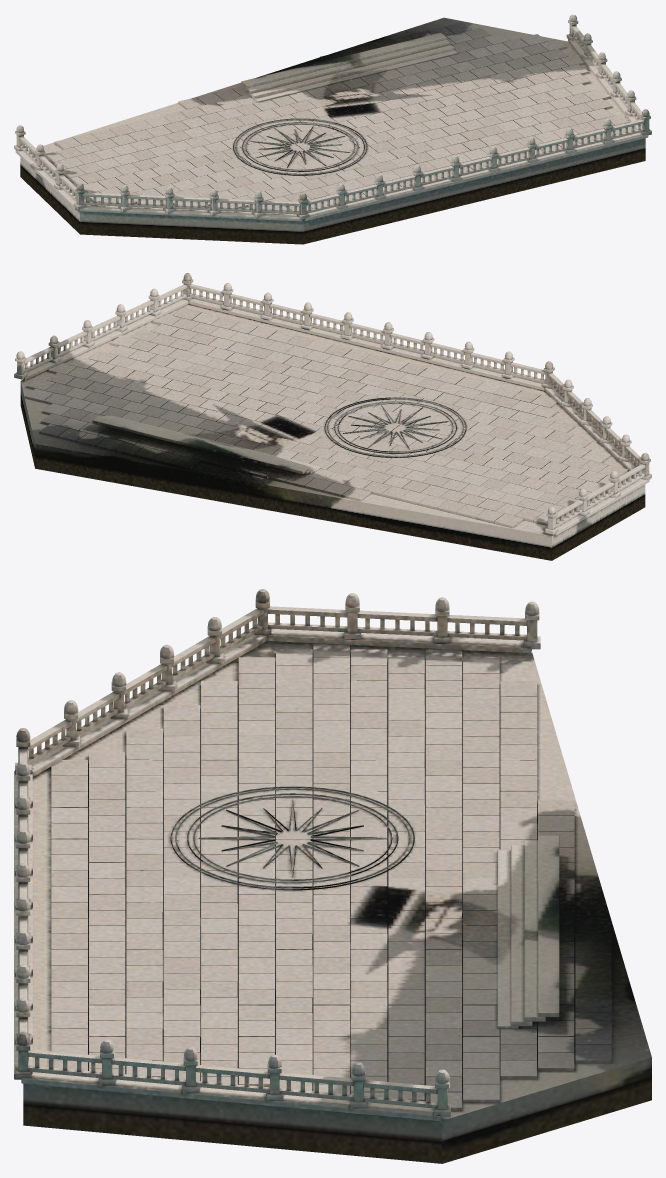
Rendered from terrace.glb.
3 views of the same model, one above another, from view 1: azimuth 30°, elevation 25°; view 2: azimuth 150°, elevation 25°; view 3: azimuth 270°, elevation 25° (orthographic). The views are drawn at different scales.
Visible parts, largest first — view 1: Reference coastal stone terrace; view 2: Reference coastal stone terrace; view 3: Reference coastal stone terrace.
Part boxes in pixels (<box>): Reference coastal stone terrace: <box>14,14,651,244</box>; Reference coastal stone terrace: <box>14,273,651,560</box>; Reference coastal stone terrace: <box>14,589,651,1163</box>.
Bounding box in the file's own units: 38.62 × 3.47 × 21.31.
Materials: 1 (1 with a texture image).
